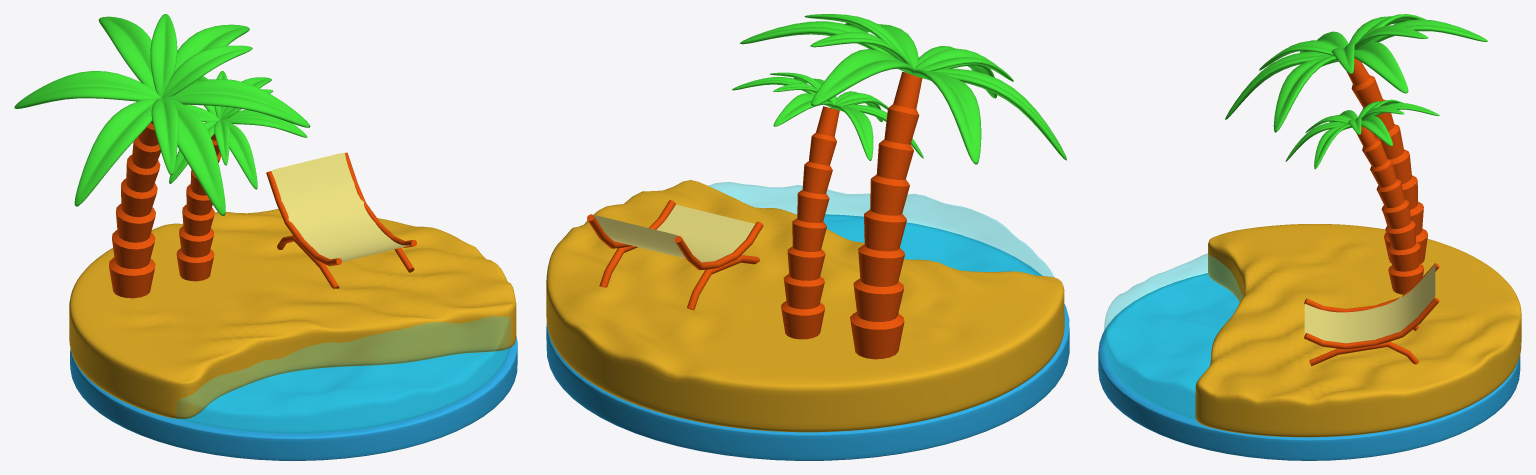
The model's file is beach.glb.
3 renders of one model, left to right at view 1: azimuth 30°, elevation 25°; view 2: azimuth 150°, elevation 25°; view 3: azimuth 270°, elevation 25°, orthographic. The views are drawn at different scales.
Visible parts, largest first — view 1: Roundcube, Circle, Roundcube.001, Vert, Cylinder, Plane.004, Cylinder.001, Plane.005, Plane.002, Plane.003, Vert.001, Plane (+7 smaller); view 2: Roundcube, Circle, Cylinder, Roundcube.001, Cylinder.001, Vert, Vert.001, Plane.005, Plane, Plane.004, Plane.001, Plane.008 (+6 smaller); view 3: Roundcube, Circle, Roundcube.001, Cylinder.001, Vert, Cylinder, Vert.001, Plane.002, Plane.001, Plane.003, Plane, Plane.005 (+5 smaller).
Boxes of the visible parts, box(x1,y1,x2,y2) form: Roundcube: box(69, 209, 516, 418); Circle: box(70, 336, 517, 460); Roundcube.001: box(174, 316, 510, 433); Vert: box(271, 153, 409, 261); Cylinder: box(109, 121, 160, 298); Plane.004: box(74, 98, 160, 206); Cylinder.001: box(176, 134, 220, 281); Plane.005: box(14, 71, 161, 108); Plane.002: box(162, 79, 310, 127); Plane.003: box(169, 99, 225, 215); Vert.001: box(266, 152, 416, 288); Plane: box(98, 16, 157, 93); Roundcube: box(546, 180, 1064, 432); Circle: box(546, 214, 1069, 460); Cylinder: box(850, 71, 922, 359); Roundcube.001: box(708, 182, 1054, 277); Cylinder.001: box(781, 106, 839, 339); Vert: box(593, 204, 755, 262); Vert.001: box(587, 200, 763, 310); Plane.005: box(913, 69, 981, 164); Plane: box(811, 49, 915, 106); Plane.004: box(930, 68, 1066, 160); Plane.001: box(740, 21, 892, 56); Plane.008: box(915, 48, 1013, 81); Roundcube: box(1195, 224, 1521, 437); Circle: box(1098, 273, 1520, 460); Roundcube.001: box(1104, 253, 1242, 420); Cylinder.001: box(1356, 126, 1423, 294); Vert: box(1304, 264, 1435, 343); Cylinder: box(1346, 58, 1427, 263); Vert.001: box(1304, 263, 1439, 365); Plane.002: box(1273, 56, 1338, 132); Plane.001: box(1354, 42, 1408, 93); Plane.003: box(1225, 51, 1333, 119); Plane: box(1365, 19, 1487, 43); Plane.005: box(1349, 14, 1425, 43).
Size of what is drawn, in the model's own units: 8.48 by 6.36 by 7.97.
